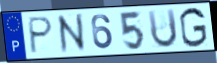5: (118, 9, 146, 51)
6: (90, 14, 115, 51)
G: (178, 6, 209, 49)
N: (55, 12, 89, 56)
P: (28, 16, 55, 56)
U: (146, 7, 179, 50)
